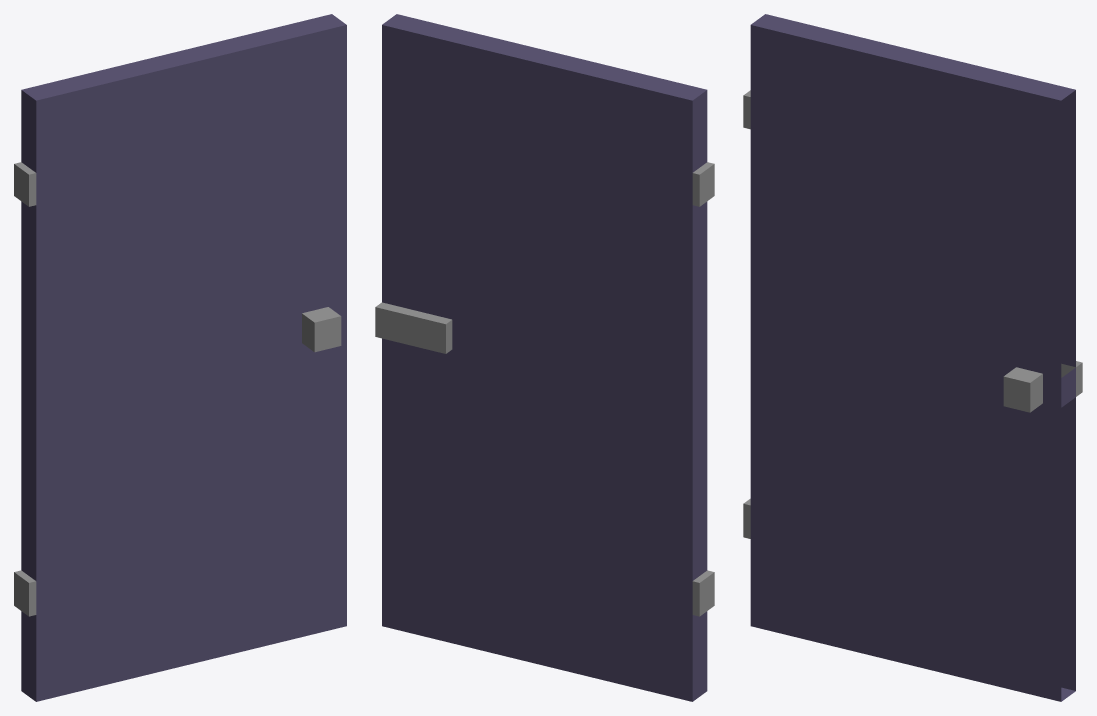
File: stalldoor.fbx
3 views of the same model, side by side, from view 1: azimuth 30°, elevation 25°; view 2: azimuth 150°, elevation 25°; view 3: azimuth 330°, elevation 25° (orthographic).
Parts seen in each view (by area): view 1: Stall Door; view 2: Stall Door; view 3: Stall Door.
Boxes of the visible parts, bbox=[...] form: Stall Door: bbox=[14, 14, 346, 701]; Stall Door: bbox=[375, 14, 714, 701]; Stall Door: bbox=[743, 14, 1082, 701].
Bounding box in the file's own units: 535 × 966 × 99.13.
